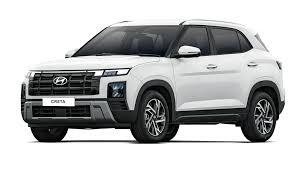hyundai: (52, 73, 70, 87)
